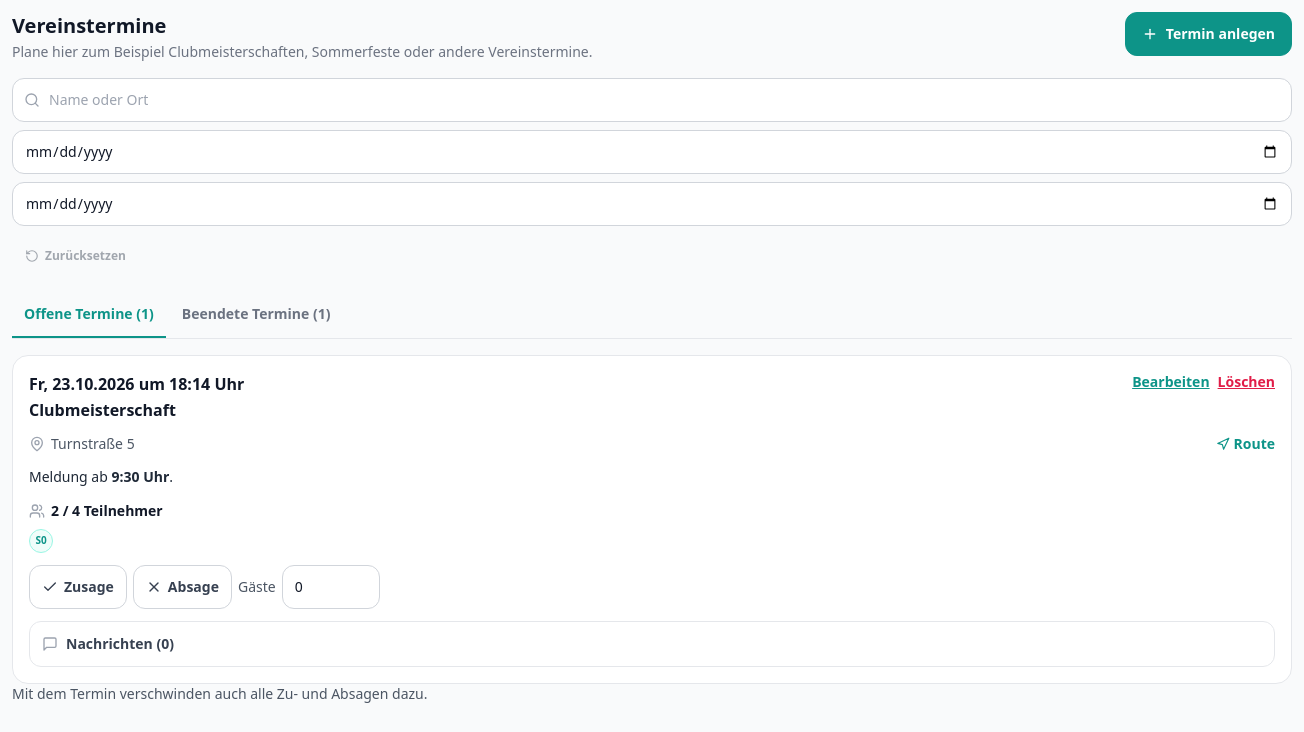
EventsPage › sagt es, wenn die Anmeldefrist vorbei ist
Check: the text "Clubmeisterschaft" is shown, box top-left (29, 399), bottom-right (176, 421)
Click the button "Zusage" at [78, 587], box top-left (29, 565), bottom-right (127, 609)
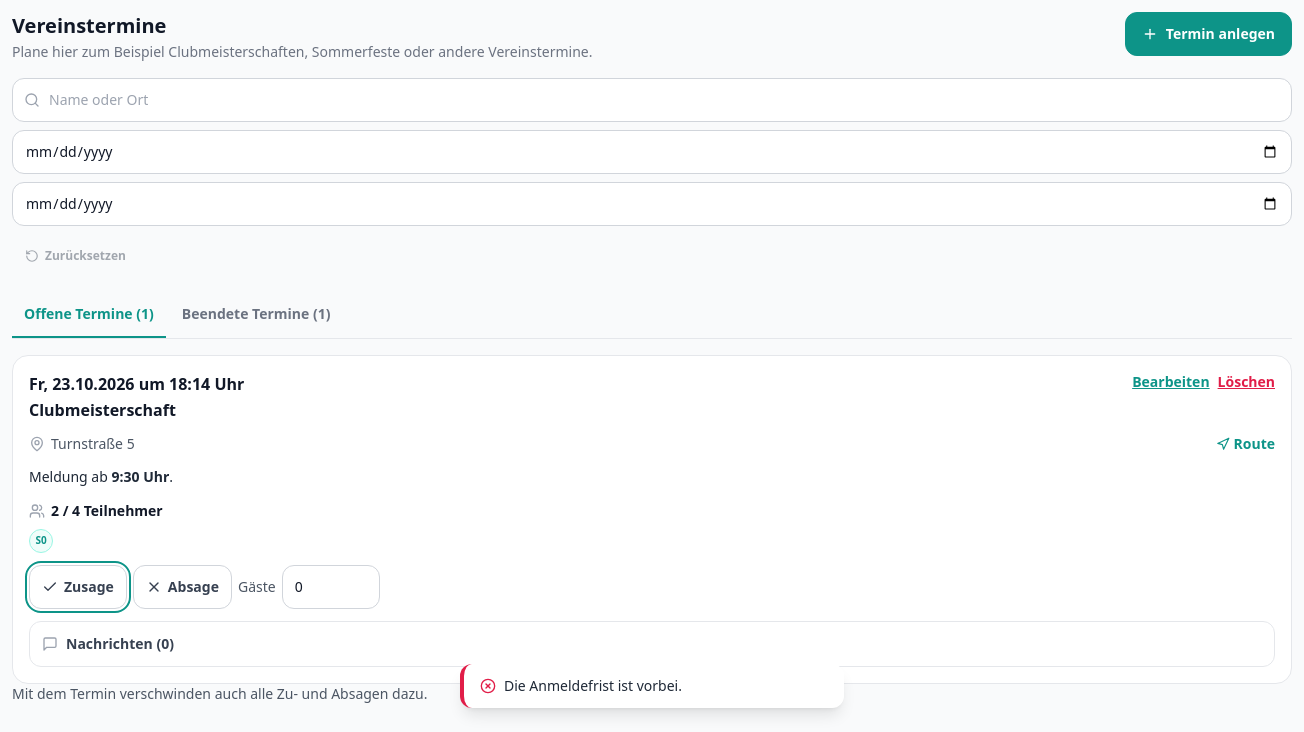
Check: the text "Die Anmeldefrist ist vorbei." is shown, box top-left (504, 676), bottom-right (682, 696)
